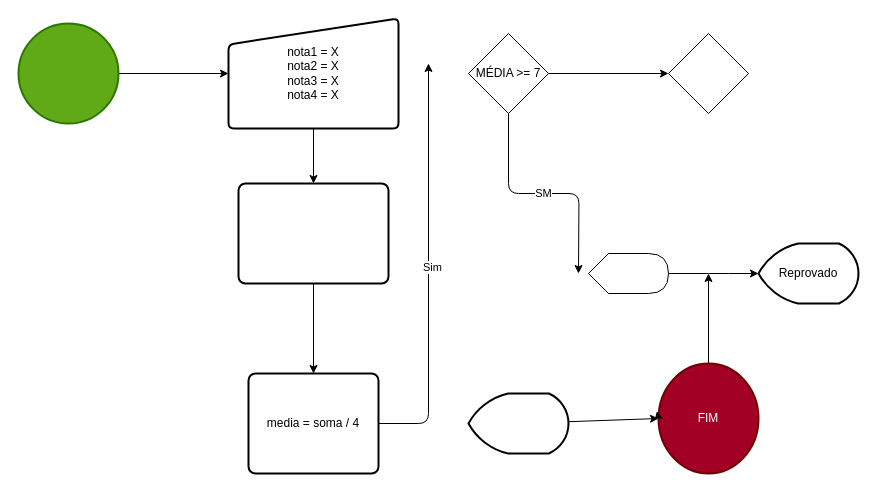
The diagram is 876 pixels wide and 491 high, and some of its shapes have lost their labels. The shapes that lost their labels are listed below. From the top down, each one's centre as x and y in pixels, then its label:
At point (708, 73): "MÉDIA >= 5".
At point (313, 233): "soma = nota1 + nota2 + nota3 + nota4".
At point (518, 423): "APROVADO".
